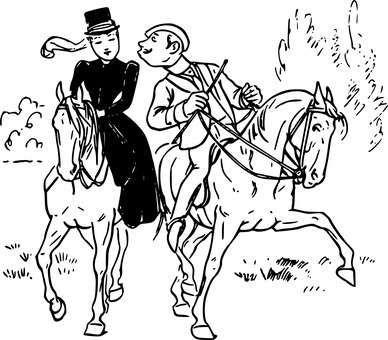horse: (143, 96, 367, 330), (17, 83, 130, 333)
person: (129, 20, 256, 230), (47, 5, 165, 223)
